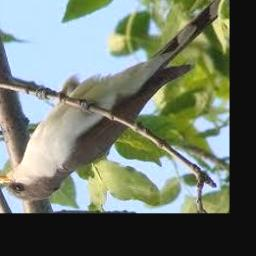Cuckoo: (0, 0, 230, 200)
